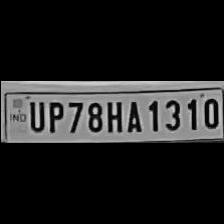0: (200, 95, 220, 129)
1: (142, 96, 160, 134), (182, 95, 198, 131)
3: (161, 96, 181, 132)
7: (63, 98, 83, 134)
8: (82, 99, 104, 134)
A: (122, 98, 142, 134)
H: (104, 97, 124, 133)
P: (43, 98, 63, 134)
U: (24, 97, 44, 133)
